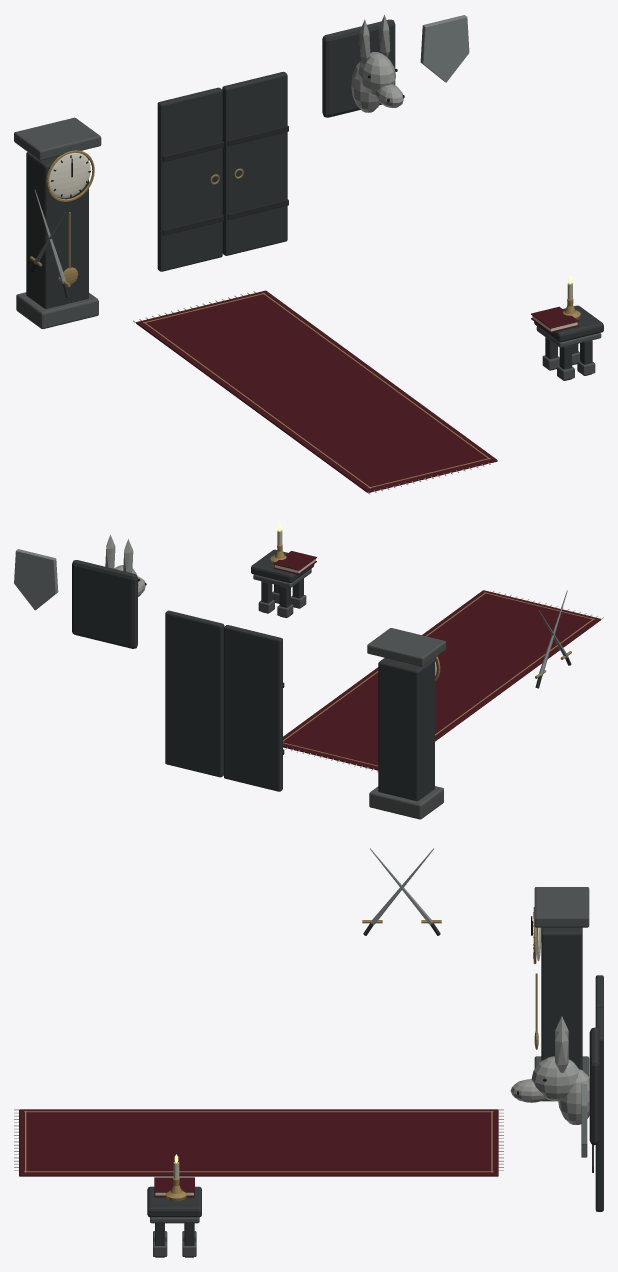
Rendered from ROOM_entrance.glb.
The picture shows the model from 3 angles, top to bottom: view 1: azimuth 30°, elevation 25°; view 2: azimuth 150°, elevation 25°; view 3: azimuth 270°, elevation 25°; orthographic projection. The views are drawn at different scales.
Visible parts, largest first — view 1: ROOM_entrance__redshadow, ROOM_entrance__wood__doors, ROOM_entrance__wood, ROOM_entrance__woodedge, ROOM_entrance__stone, ROOM_entrance__steel, ROOM_entrance__brass, ROOM_entrance__black__doors, ROOM_entrance__ivory; view 2: ROOM_entrance__wood__doors, ROOM_entrance__redshadow, ROOM_entrance__wood, ROOM_entrance__woodedge, ROOM_entrance__steel, ROOM_entrance__brass, ROOM_entrance__stone; view 3: ROOM_entrance__redshadow, ROOM_entrance__wood, ROOM_entrance__stone, ROOM_entrance__woodedge, ROOM_entrance__brass, ROOM_entrance__wood__doors, ROOM_entrance__steel.
Boxes of the visible parts, x1=… form: ROOM_entrance__redshadow: x1=136, y1=290, x2=578, y2=492; ROOM_entrance__wood__doors: x1=157, y1=71, x2=287, y2=271; ROOM_entrance__wood: x1=26, y1=19, x2=603, y2=380; ROOM_entrance__woodedge: x1=14, y1=117, x2=601, y2=380; ROOM_entrance__stone: x1=351, y1=15, x2=403, y2=112; ROOM_entrance__steel: x1=33, y1=15, x2=469, y2=284; ROOM_entrance__brass: x1=30, y1=150, x2=580, y2=488; ROOM_entrance__black__doors: x1=162, y1=125, x2=288, y2=235; ROOM_entrance__ivory: x1=49, y1=152, x2=90, y2=198; ROOM_entrance__wood__doors: x1=165, y1=610, x2=282, y2=791; ROOM_entrance__redshadow: x1=273, y1=551, x2=600, y2=770; ROOM_entrance__wood: x1=72, y1=549, x2=434, y2=801; ROOM_entrance__woodedge: x1=253, y1=568, x2=446, y2=819; ROOM_entrance__steel: x1=14, y1=549, x2=568, y2=675; ROOM_entrance__brass: x1=270, y1=544, x2=594, y2=766; ROOM_entrance__stone: x1=105, y1=535, x2=145, y2=596; ROOM_entrance__redshadow: x1=19, y1=1109, x2=498, y2=1197; ROOM_entrance__wood: x1=147, y1=927, x2=599, y2=1257; ROOM_entrance__stone: x1=510, y1=1016, x2=589, y2=1124; ROOM_entrance__woodedge: x1=150, y1=887, x2=589, y2=1256; ROOM_entrance__brass: x1=24, y1=907, x2=538, y2=1201; ROOM_entrance__wood__doors: x1=595, y1=975, x2=603, y2=1211; ROOM_entrance__steel: x1=370, y1=848, x2=587, y2=1157.
Size of the model in its own units: 7.21 by 2.98 by 7.01.
